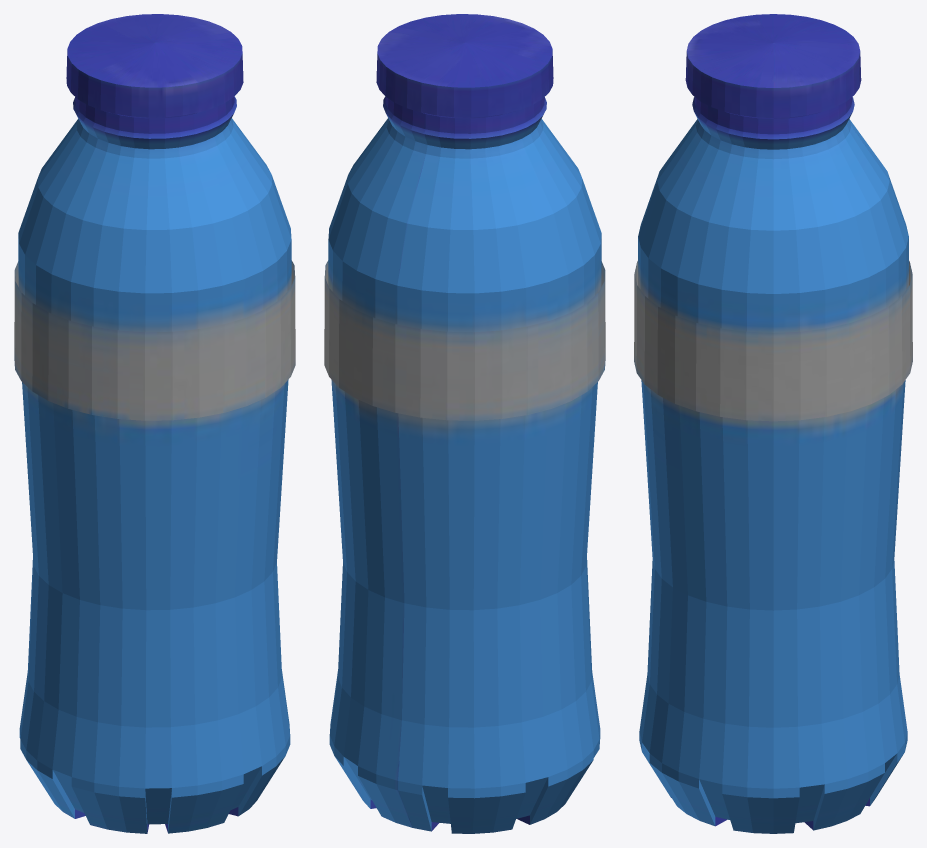
File: bottle.glb
The picture shows the model from 3 angles, left to right: view 1: azimuth 30°, elevation 25°; view 2: azimuth 150°, elevation 25°; view 3: azimuth 270°, elevation 25°; orthographic projection.
Parts seen in each view (by area): view 1: node_id6, node_id9; view 2: node_id6, node_id9; view 3: node_id6, node_id9.
Boxes of the visible parts, box(x1,y1,x2,y2) form: node_id6: box(18, 14, 291, 833); node_id9: box(14, 260, 295, 420); node_id6: box(328, 14, 601, 833); node_id9: box(324, 260, 605, 420); node_id6: box(638, 14, 908, 833); node_id9: box(634, 261, 912, 421).
Size of the model in its own units: 0.4285 by 1.25 by 0.4226.
2 materials, 2 textured.
